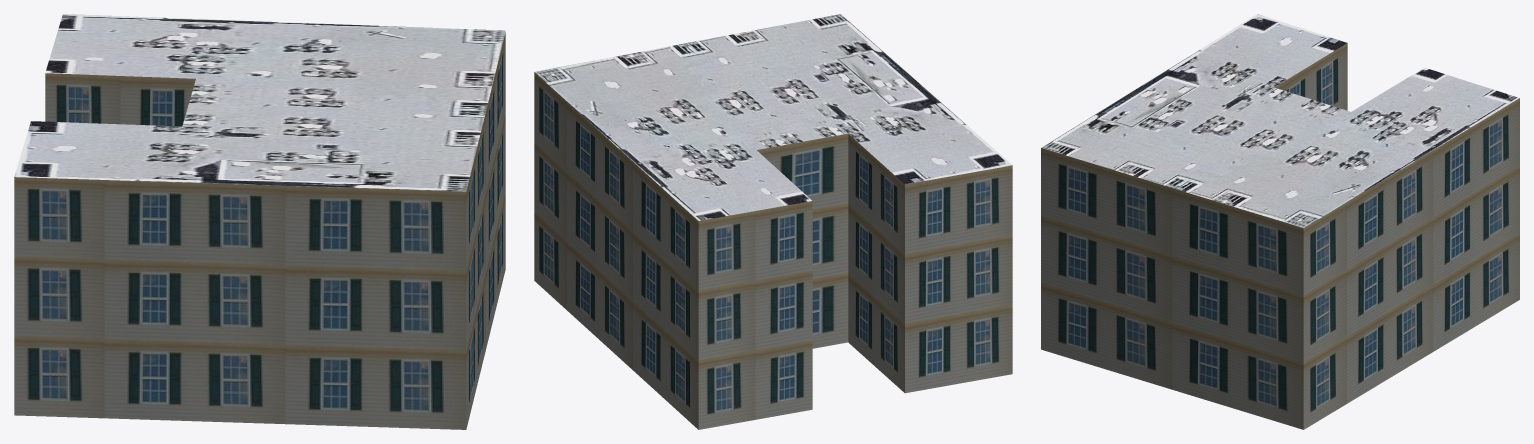
Rendered from ResTex__4787.fbx.
3 renders of one model, left to right at view 1: azimuth 30°, elevation 25°; view 2: azimuth 150°, elevation 25°; view 3: azimuth 270°, elevation 25°, orthographic. The views are drawn at different scales.
Parts seen in each view (by area): view 1: CityEngineMaterial_7_m, CityEngineMaterial_4_m; view 2: CityEngineMaterial_7_m, CityEngineMaterial_4_m; view 3: CityEngineMaterial_7_m, CityEngineMaterial_4_m.
Part boxes in pixels (x1,y1,x2,y2): CityEngineMaterial_7_m: (14,32,505,429); CityEngineMaterial_4_m: (14,14,505,191); CityEngineMaterial_7_m: (534,72,1012,429); CityEngineMaterial_4_m: (535,14,1011,220); CityEngineMaterial_7_m: (1041,43,1519,429); CityEngineMaterial_4_m: (1041,14,1519,228).
Size of the model in its own units: 20.5 by 9 by 19.36.
Materials: 2 (2 with a texture image).
